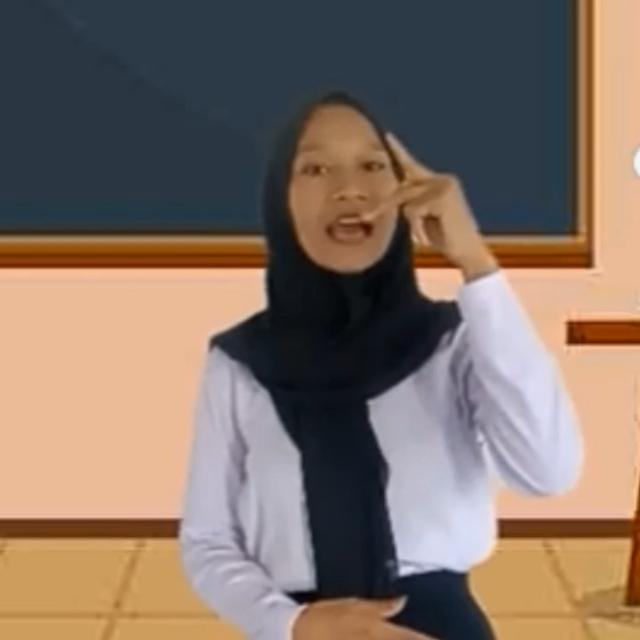L: (358, 133, 476, 273)
